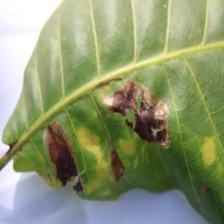leaf miner: (0, 0, 224, 224), (103, 80, 172, 150)
